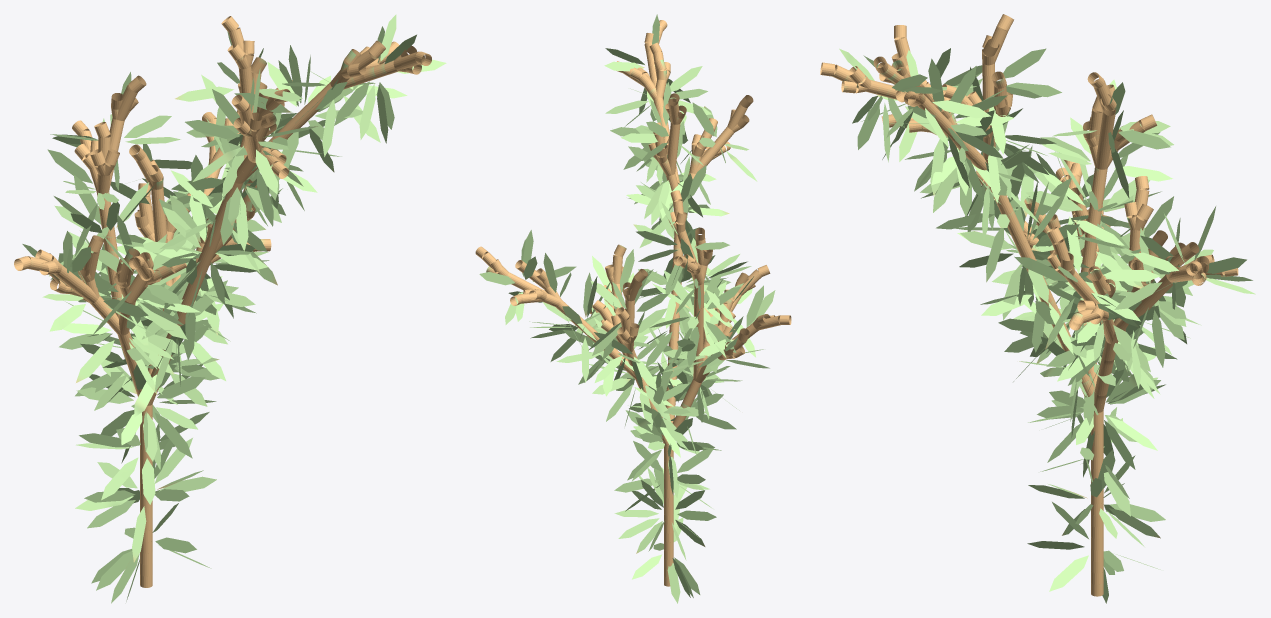
The model's file is tree2.obj.
The picture shows the model from 3 angles, left to right: view 1: azimuth 30°, elevation 25°; view 2: azimuth 150°, elevation 25°; view 3: azimuth 270°, elevation 25°; orthographic projection. The views are drawn at different scales.
Parts seen in each view (by area): view 1: MyObject; view 2: MyObject; view 3: MyObject.
Part boxes in pixels (box(x1,y1,x2,y2)): MyObject: box(14, 14, 446, 603); MyObject: box(475, 14, 791, 603); MyObject: box(820, 14, 1255, 603).
Bounding box in the file's own units: 12.61 × 21.96 × 13.7.
1 material, 1 textured.
